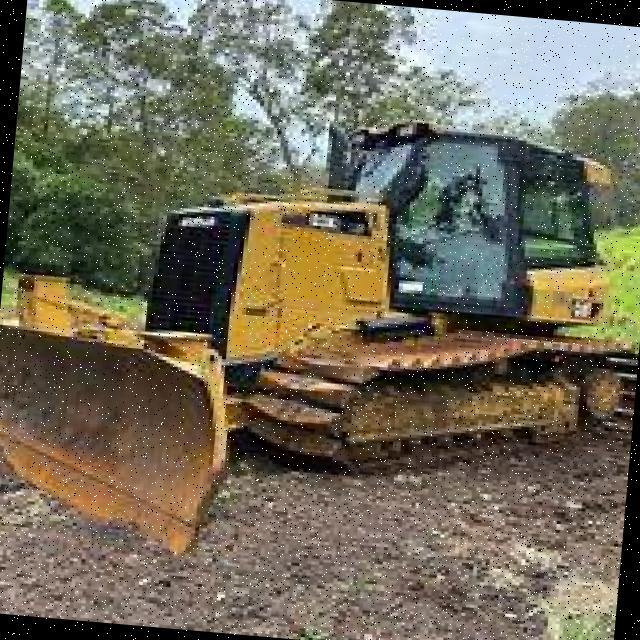Bulldozer: (0, 14, 640, 587)
